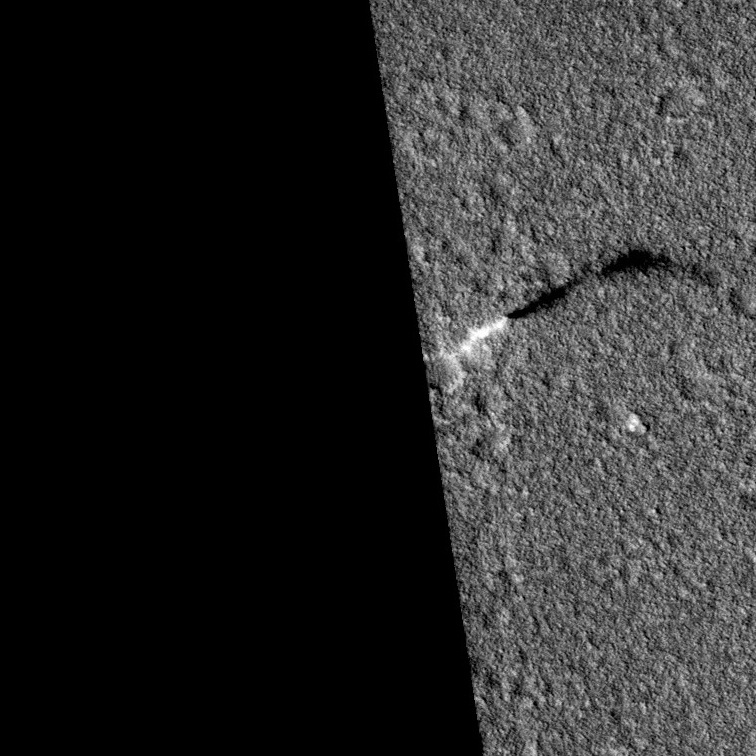dust_devil: (453, 241, 719, 357)
